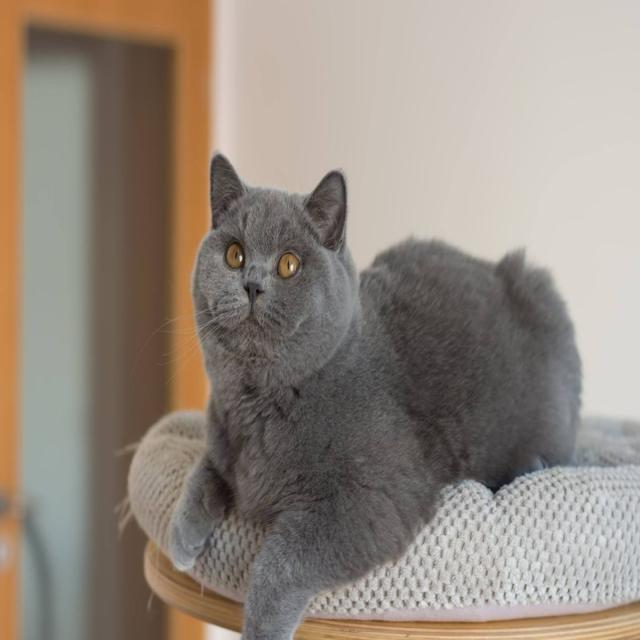british shorthair: (144, 160, 624, 640)
